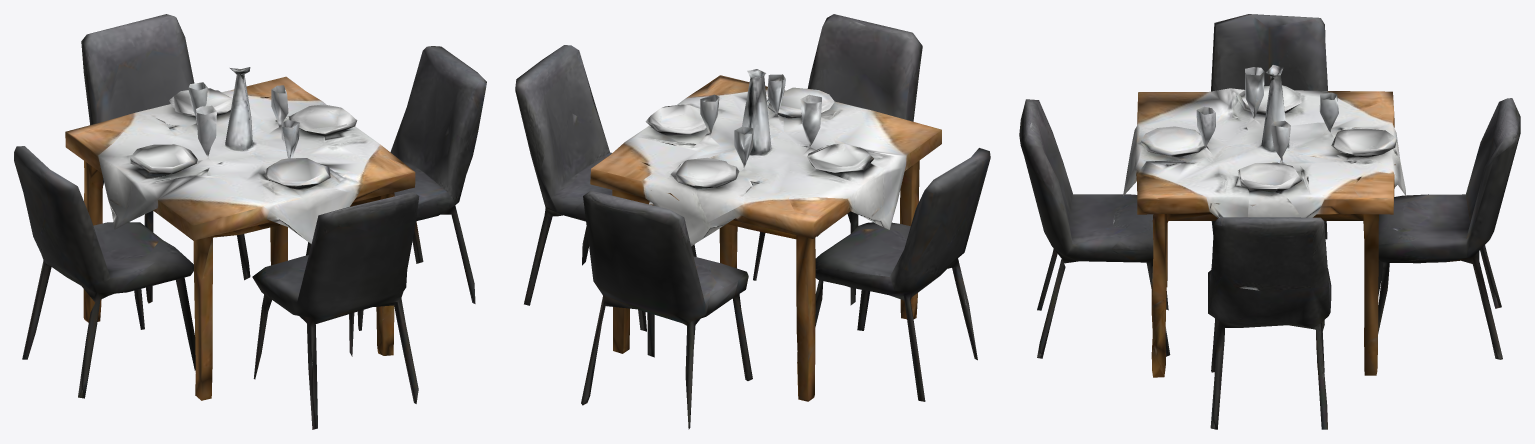
The model's file is innen_tisch.glb.
3 renders of one model, left to right at view 1: azimuth 30°, elevation 25°; view 2: azimuth 150°, elevation 25°; view 3: azimuth 270°, elevation 25°, orthographic.
Parts seen in each view (by area): view 1: tripo_node_c537d695-9082-4e8a-a8b1-fb4c4d504951; view 2: tripo_node_c537d695-9082-4e8a-a8b1-fb4c4d504951; view 3: tripo_node_c537d695-9082-4e8a-a8b1-fb4c4d504951.
Boxes of the visible parts, <box> form: tripo_node_c537d695-9082-4e8a-a8b1-fb4c4d504951: <box>14,14,486,429</box>; tripo_node_c537d695-9082-4e8a-a8b1-fb4c4d504951: <box>515,14,990,429</box>; tripo_node_c537d695-9082-4e8a-a8b1-fb4c4d504951: <box>1019,14,1520,429</box>.
Size of the model in its own units: 0.9964 by 0.5799 by 0.9981.
1 material, 1 textured.
